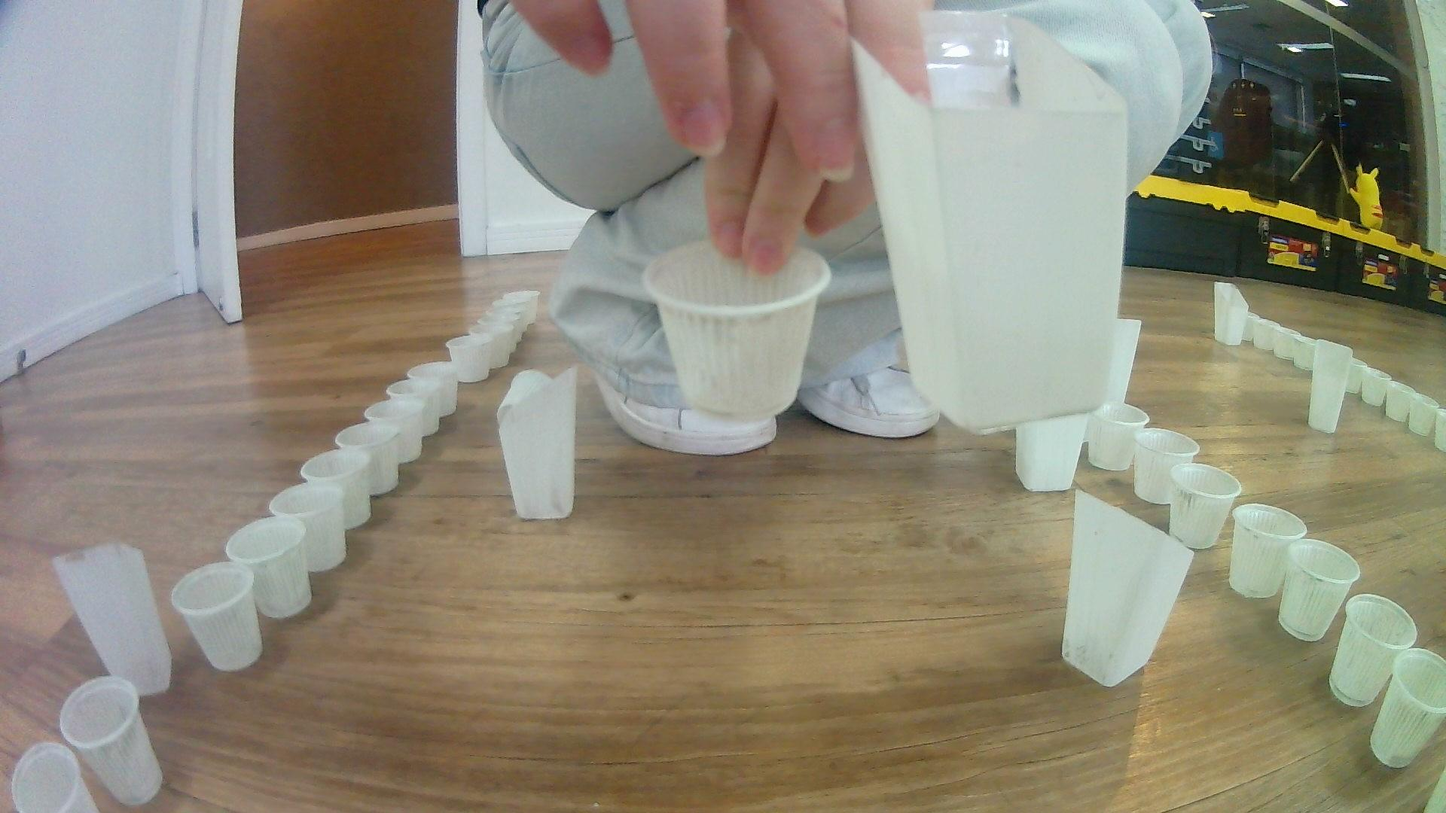erva_daninha: (850, 11, 1130, 436), (1057, 488, 1194, 688), (1014, 319, 1144, 492), (51, 540, 173, 699), (495, 364, 578, 521), (1307, 339, 1354, 435), (1213, 281, 1247, 347)
planta: (640, 236, 834, 428), (59, 676, 164, 808), (170, 561, 262, 673), (1329, 593, 1418, 708), (1370, 647, 1446, 769), (225, 515, 313, 619), (1278, 538, 1362, 642), (1228, 502, 1307, 598), (269, 483, 347, 575), (10, 741, 101, 813), (1168, 464, 1243, 550), (300, 449, 374, 532), (1132, 428, 1199, 505), (335, 422, 400, 496), (1087, 403, 1150, 472), (365, 399, 423, 463), (385, 379, 441, 437), (407, 361, 459, 418), (445, 333, 493, 383), (466, 322, 511, 368), (477, 312, 521, 354), (487, 301, 529, 340), (499, 291, 541, 325), (1409, 394, 1442, 437), (1385, 382, 1416, 422), (1362, 369, 1393, 407), (1254, 318, 1283, 351), (1274, 326, 1299, 361), (1293, 334, 1316, 370), (1346, 359, 1368, 394), (1242, 312, 1263, 343), (1435, 408, 1446, 451)
